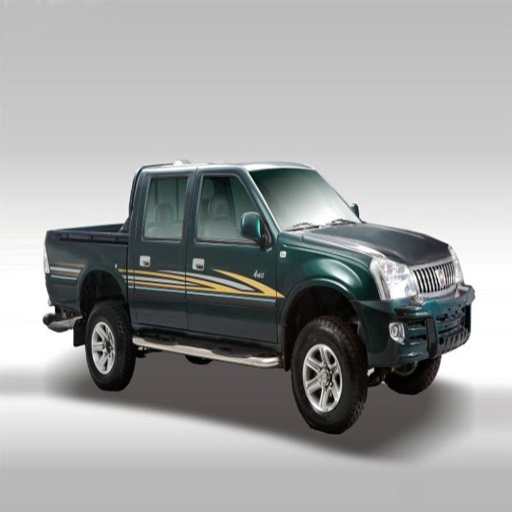front_bumper: (354, 263, 468, 373)
front_right_door: (189, 172, 274, 342)
front_right_light: (369, 254, 424, 303)
trunk: (51, 225, 127, 321)
